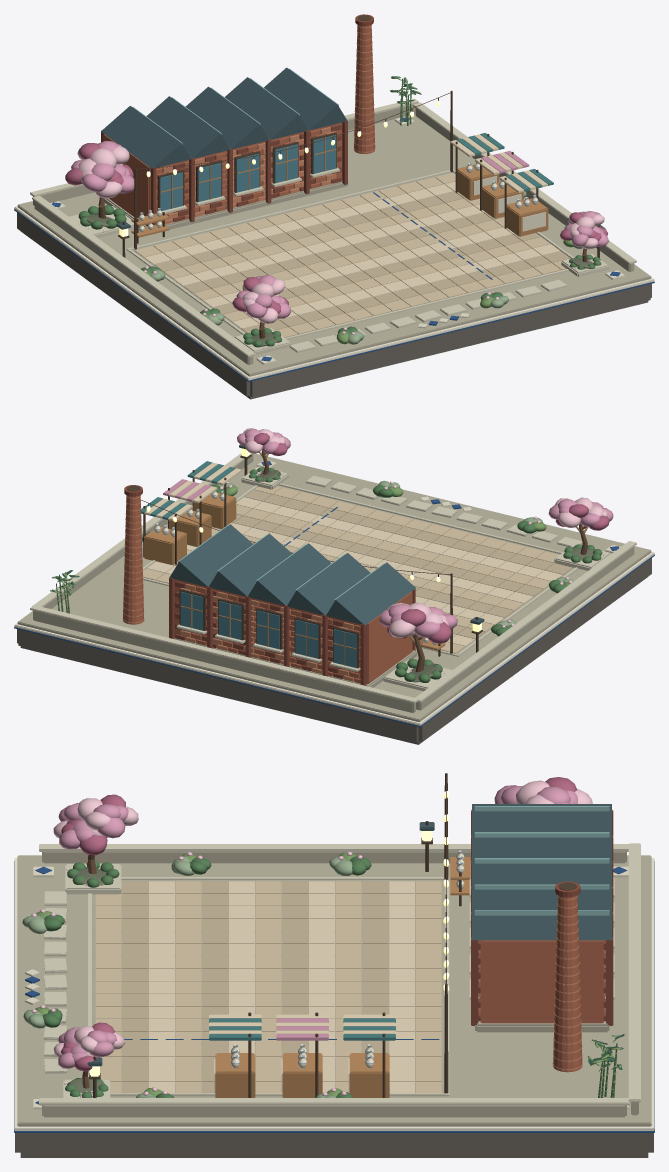
Rendered from taoxichuan.glb.
3 renders of one model, top to bottom at view 1: azimuth 30°, elevation 25°; view 2: azimuth 150°, elevation 25°; view 3: azimuth 270°, elevation 25°, orthographic. The views are drawn at different scales.
Visible parts, largest first — view 1: Garden ground, Individual courtyard flagstone, Sawtooth factory roof, Individual courtyard flagstone.002, Individual courtyard flagstone.001, 20 × 20 square island, Courtyard border, Historic brick factory, Blue reflected glazing, Handmade facade brick.002, Porcelain perimeter band, Window central mullion (+11 smaller); view 2: Garden ground, Sawtooth factory roof, 20 × 20 square island, Courtyard border, Individual courtyard flagstone, Individual courtyard flagstone.002, Individual courtyard flagstone.001, Historic brick factory, Blue reflected glazing, Handmade facade brick.002, Window central mullion, Porcelain perimeter band (+12 smaller); view 3: Garden ground, Individual courtyard flagstone, Individual courtyard flagstone.001, Courtyard border, Individual courtyard flagstone.002, 20 × 20 square island, Sawtooth factory roof, Historic brick factory, Porcelain perimeter band, Window central mullion, Striped linen awning.007, Sawtooth glazed clerestory (+14 smaller).
Part boxes in pixels (<box>): Garden ground: <box>17,105,651,376</box>; Individual courtyard flagstone: <box>134,172,570,337</box>; Sawtooth factory roof: <box>101,67,605,229</box>; Individual courtyard flagstone.002: <box>154,191,569,332</box>; Individual courtyard flagstone.001: <box>144,181,560,328</box>; 20 × 20 square island: <box>17,212,651,399</box>; Courtyard border: <box>30,98,636,357</box>; Historic brick factory: <box>104,25,375,226</box>; Blue reflected glazing: <box>160,135,336,210</box>; Handmade facade brick.002: <box>101,14,373,225</box>; Porcelain perimeter band: <box>14,162,654,380</box>; Window central mullion: <box>131,137,548,237</box>; Garden ground: <box>17,453,651,721</box>; Sawtooth factory roof: <box>169,444,484,625</box>; 20 × 20 square island: <box>17,558,651,744</box>; Courtyard border: <box>30,453,636,703</box>; Individual courtyard flagstone: <box>143,486,573,653</box>; Individual courtyard flagstone.002: <box>157,490,572,639</box>; Individual courtyard flagstone.001: <box>147,497,562,646</box>; Historic brick factory: <box>123,495,412,684</box>; Blue reflected glazing: <box>180,591,356,667</box>; Handmade facade brick.002: <box>124,485,415,685</box>; Window central mullion: <box>144,492,445,665</box>; Porcelain perimeter band: <box>14,491,654,725</box>; Garden ground: <box>17,852,651,1126</box>; Individual courtyard flagstone: <box>95,881,441,1093</box>; Individual courtyard flagstone.001: <box>149,881,414,1093</box>; Courtyard border: <box>39,843,640,1105</box>; Individual courtyard flagstone.002: <box>122,881,388,1093</box>; 20 × 20 square island: <box>15,1133,653,1157</box>; Sawtooth factory roof: <box>87,804,611,1066</box>; Historic brick factory: <box>480,895,603,1072</box>; Porcelain perimeter band: <box>14,850,654,1130</box>; Window central mullion: <box>215,857,470,1097</box>; Striped linen awning.007: <box>58,785,577,1068</box>; Sawtooth glazed clerestory: <box>474,806,609,915</box>.
Size of the model in its own units: 20.06 by 7.48 by 20.06.
